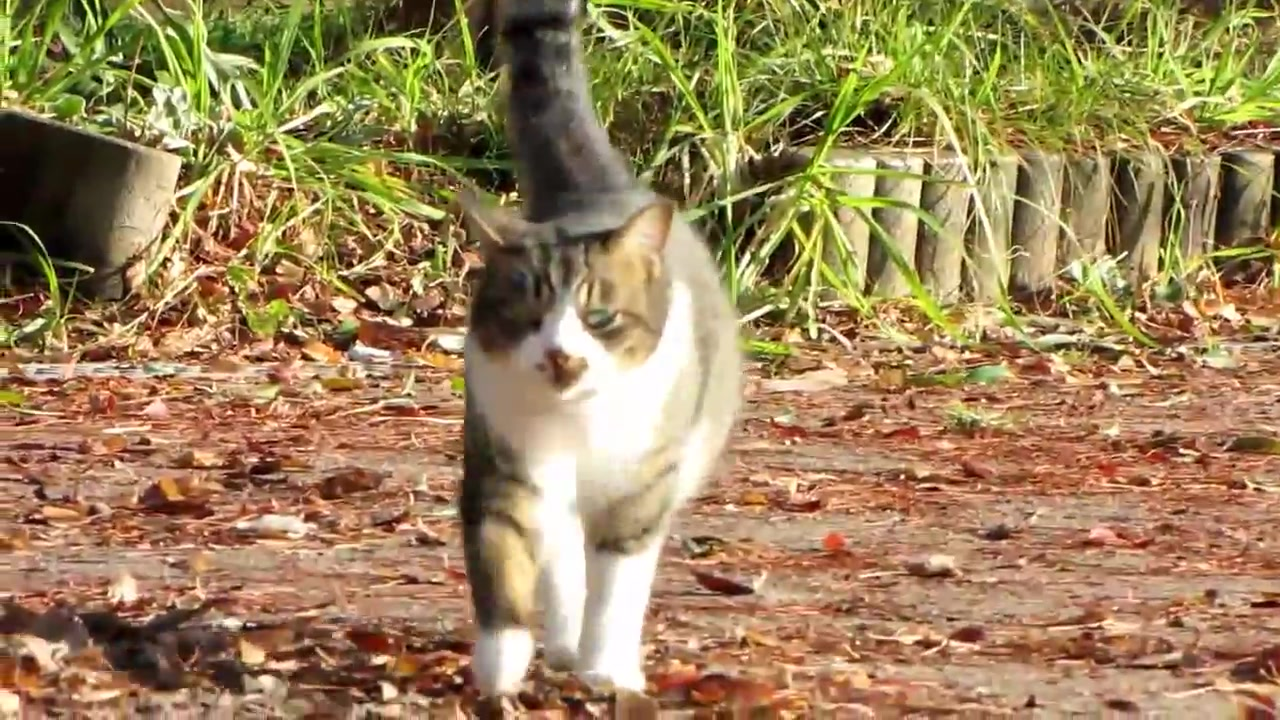cat: (450, 3, 754, 697)
